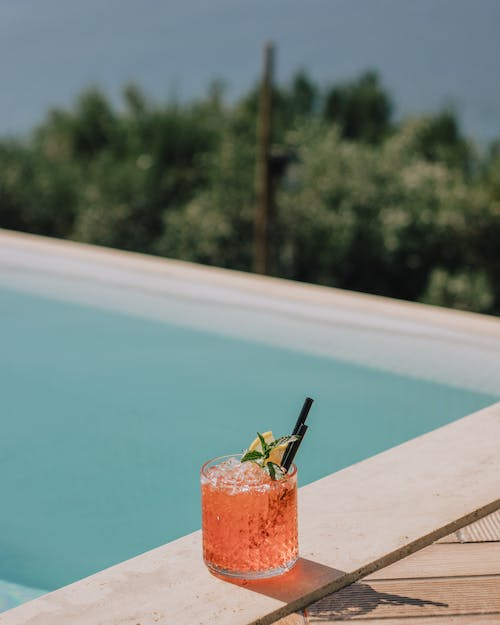alcohol: (199, 452, 301, 582)
